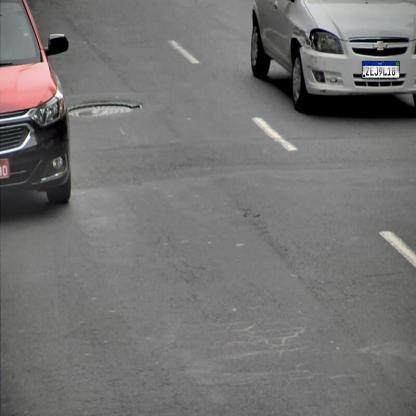PlacaM: (362, 61, 400, 78)
